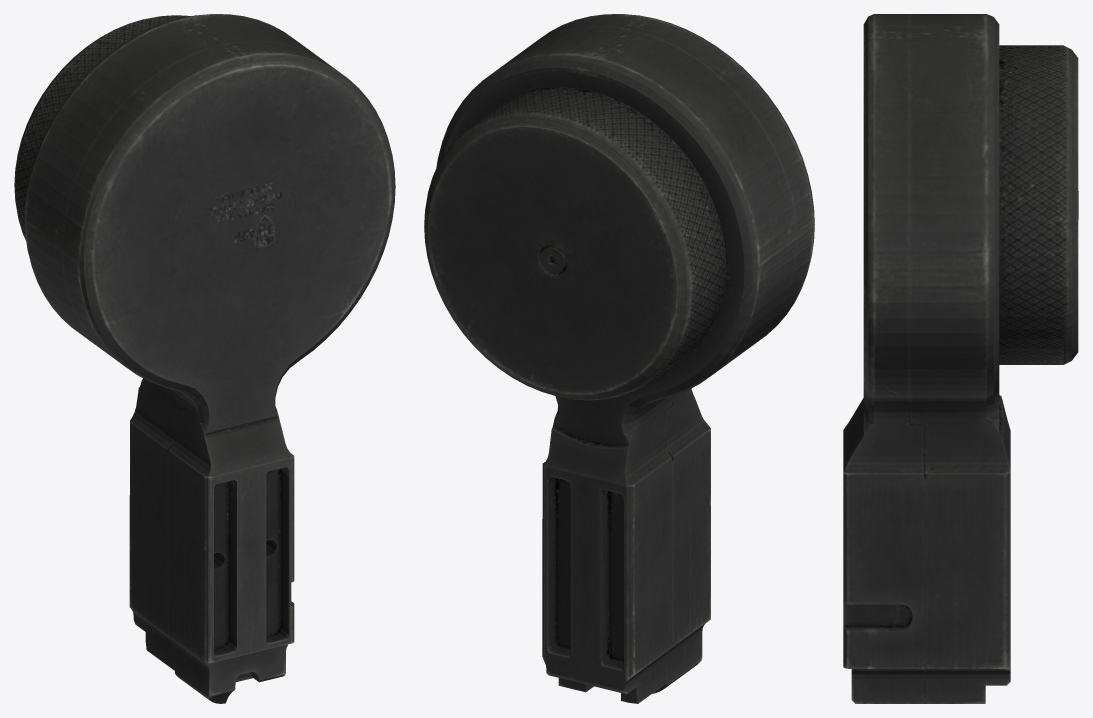
3 views of the same model, side by side, from view 1: azimuth 30°, elevation 25°; view 2: azimuth 150°, elevation 25°; view 3: azimuth 270°, elevation 25° (orthographic). The views are drawn at different scales.
Visible parts, largest first — view 1: TW_5c5db6742e2216000f1b2852_PZ_Import; view 2: TW_5c5db6742e2216000f1b2852_PZ_Import; view 3: TW_5c5db6742e2216000f1b2852_PZ_Import.
Boxes of the visible parts, x1=… form: TW_5c5db6742e2216000f1b2852_PZ_Import: x1=14, y1=14, x2=395, y2=703; TW_5c5db6742e2216000f1b2852_PZ_Import: x1=424, y1=14, x2=814, y2=703; TW_5c5db6742e2216000f1b2852_PZ_Import: x1=843, y1=14, x2=1078, y2=703.
Size of the model in its own units: 0.056 by 0.0345 by 0.1081.
Materials: 1 (1 with a texture image).
